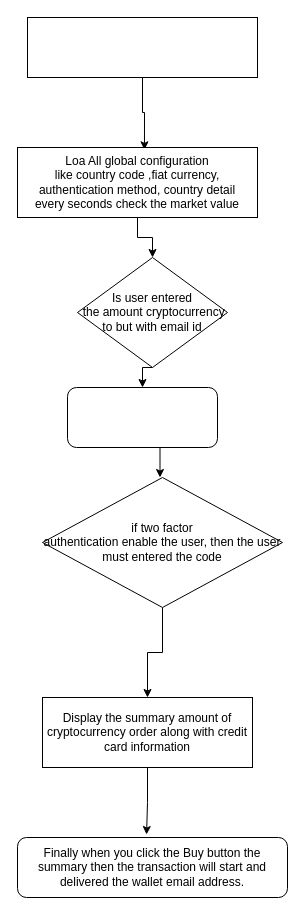
The diagram is 305 pixels wide and 915 high, and some of its shapes have lost their labels. Here are the shapes that lost their labels. From the top down, the box of each, then its label:
(26, 16, 258, 78): Browse https://widget-dev.mobilum.com/
(66, 386, 218, 448): click Checkout and order will be added
